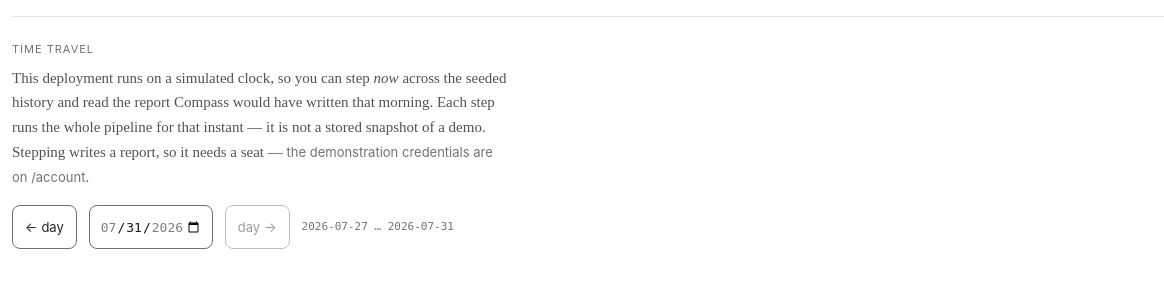
a refused step leaves the control on the day that is on screen › reverts the date when Compass cannot be reached at all
This screenshot has width=1164, height=295.
Click the button "← day".
click(44, 227)  # box [12,205,77,249]
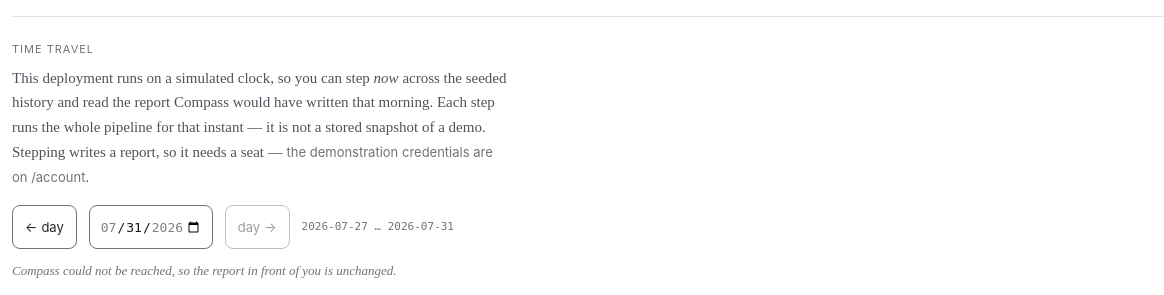
Check: the date field holds "2026-07-31", box [89,205,213,249]
Check: the message "Compass could not be reached, so the report in front of you is unchanged." is shown, box [12,263,396,278]
